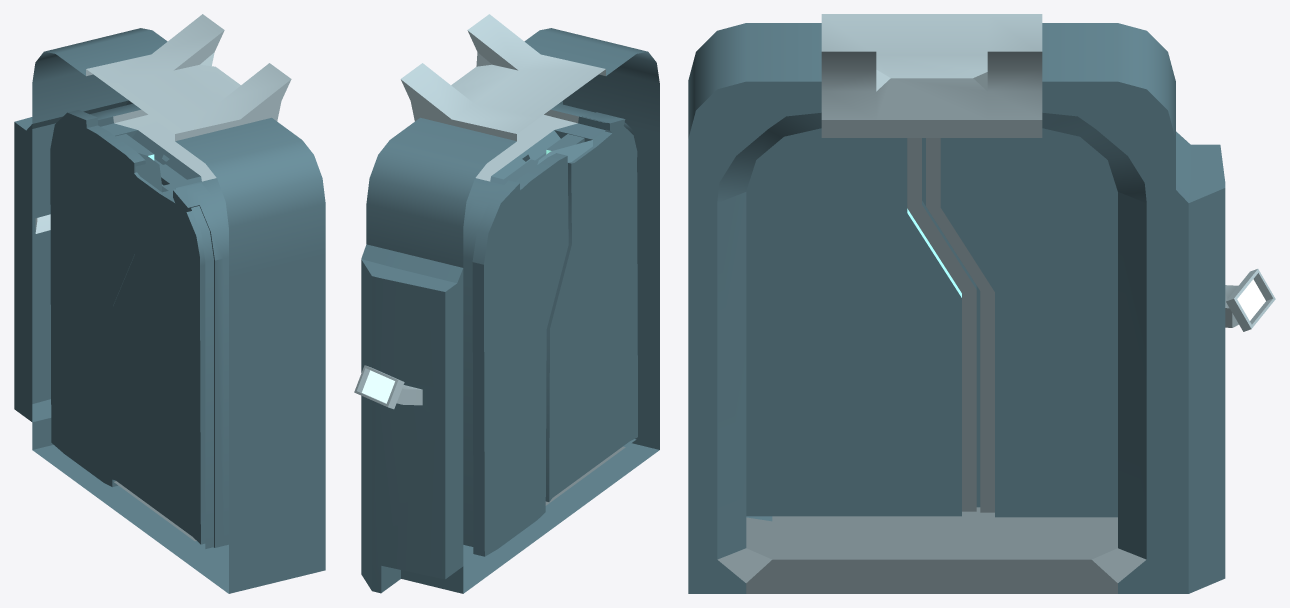
Rendered from doorv17.fbx.
3 renders of one model, left to right at view 1: azimuth 30°, elevation 25°; view 2: azimuth 150°, elevation 25°; view 3: azimuth 270°, elevation 25°, orthographic. The views are drawn at different scales.
Visible parts, largest first — view 1: Doorframe, DoorLeft, DoorRight; view 2: Doorframe, DoorRight, DoorLeft; view 3: Doorframe, DoorLeft, DoorRight.
Boxes of the visible parts, x1=… form: Doorframe: x1=14, y1=14, x2=325, y2=593; DoorLeft: x1=112, y1=164, x2=228, y2=547; DoorRight: x1=50, y1=110, x2=154, y2=486; Doorframe: x1=354, y1=14, x2=659, y2=593; DoorRight: x1=463, y1=153, x2=568, y2=556; DoorLeft: x1=545, y1=112, x2=637, y2=501; Doorframe: x1=688, y1=14, x2=1275, y2=593; DoorLeft: x1=746, y1=128, x2=976, y2=516; DoorRight: x1=922, y1=128, x2=1117, y2=517.
Bounding box in the file's own units: 130 × 464 × 446.
